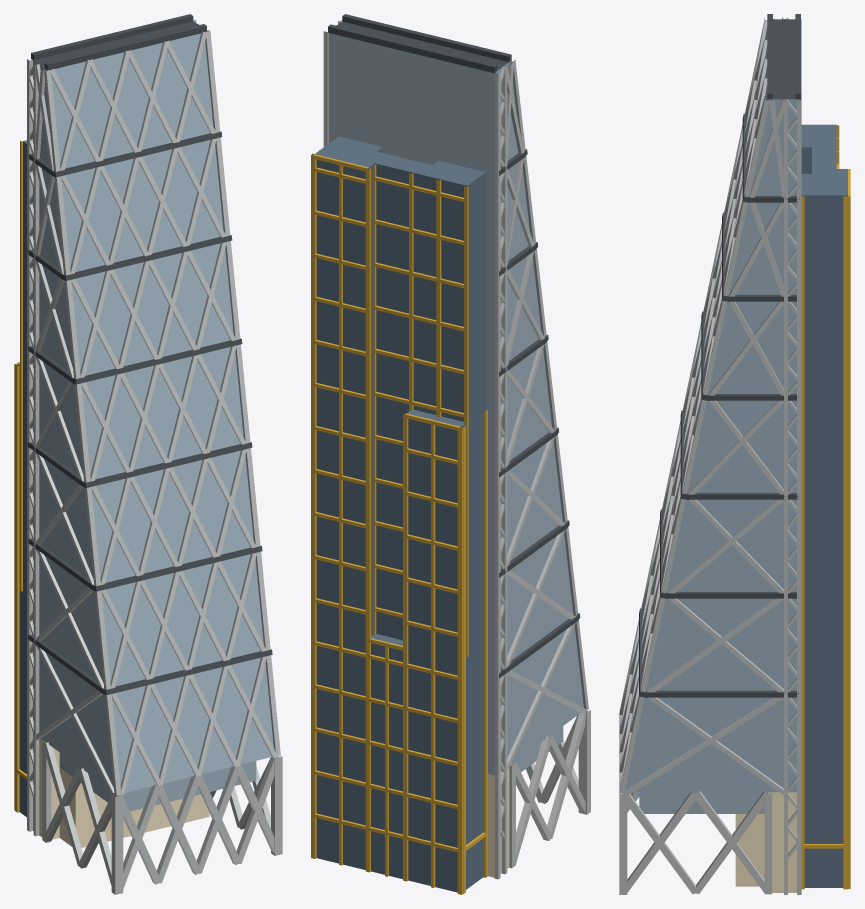
The model's file is london-leadenhall-building.glb.
3 views of the same model, side by side, from view 1: azimuth 30°, elevation 25°; view 2: azimuth 150°, elevation 25°; view 3: azimuth 270°, elevation 25° (orthographic). The views are drawn at different scales.
Parts seen in each view (by area): view 1: The Leadenhall Building; view 2: The Leadenhall Building; view 3: The Leadenhall Building.
Boxes of the visible parts, left/top/right/bottom form: The Leadenhall Building: left=14, top=14, right=282, bottom=894; The Leadenhall Building: left=311, top=14, right=590, bottom=894; The Leadenhall Building: left=619, top=14, right=850, bottom=894.
Size of the model in its own units: 51 by 226 by 59.33.
